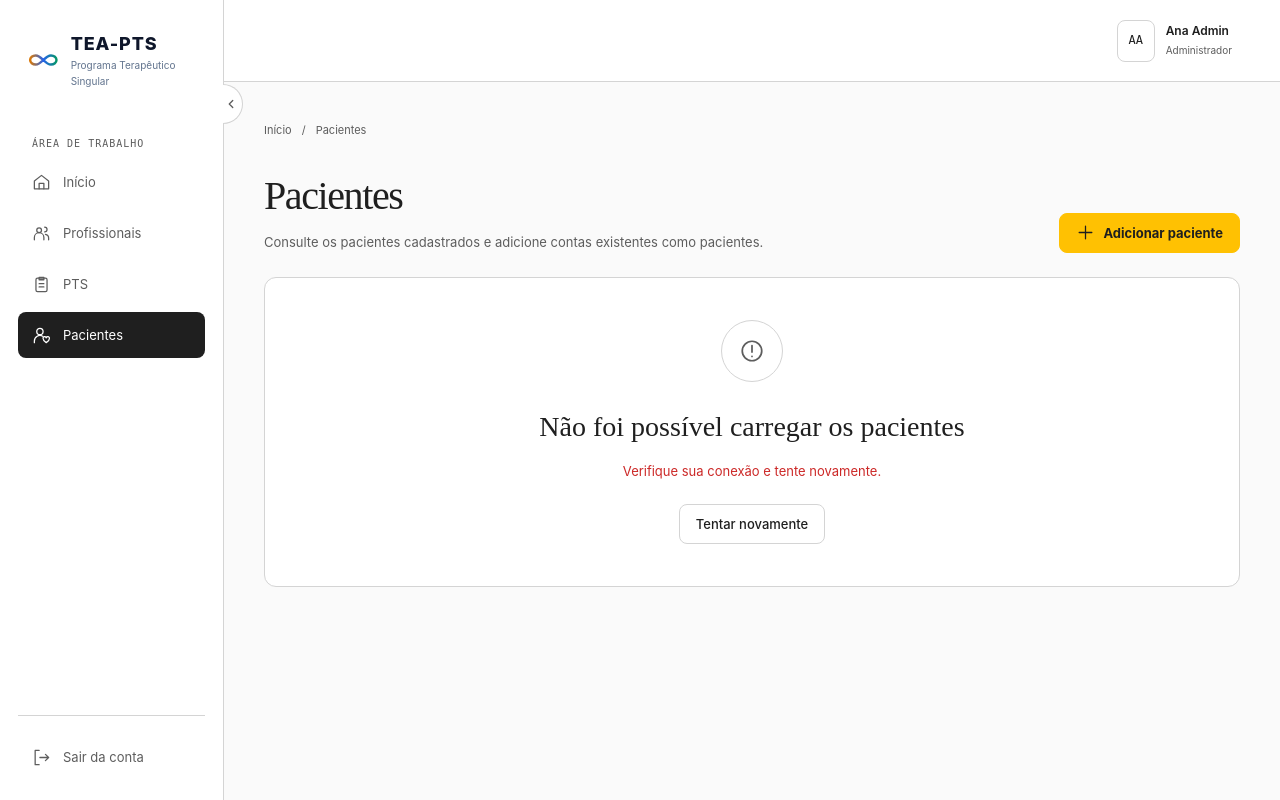
Test: PatientsPage › acesso e lista › mostra o erro e tenta de novo
The image size is (1280, 800).
Check: the heading "Não foi possível carregar os pacientes" is shown, box [539, 405, 965, 448]
What coordinates should you click on to do the following:
click the button "Tentar novamente"
I would click on:
 (752, 524)
Its box is [679, 504, 825, 544].
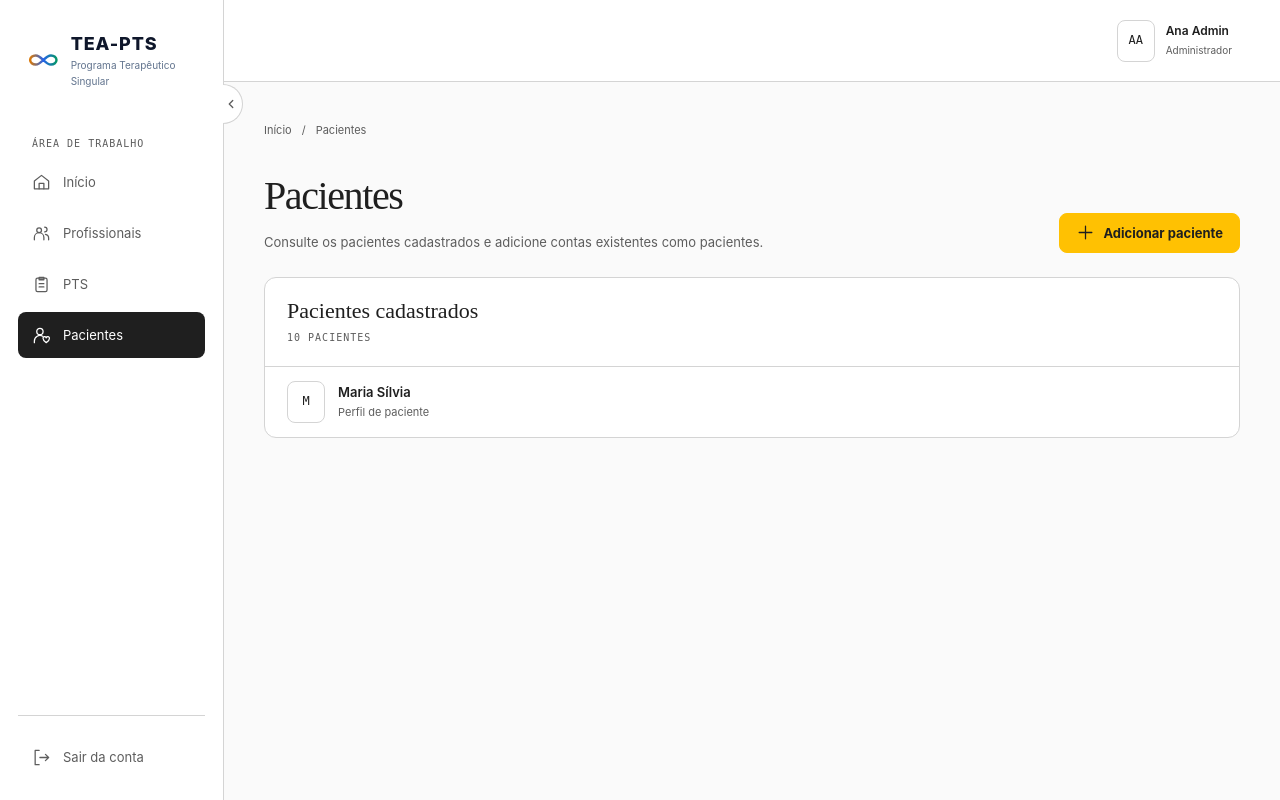
Check: the text "Maria Sílvia" is shown, box [338, 384, 411, 400]
